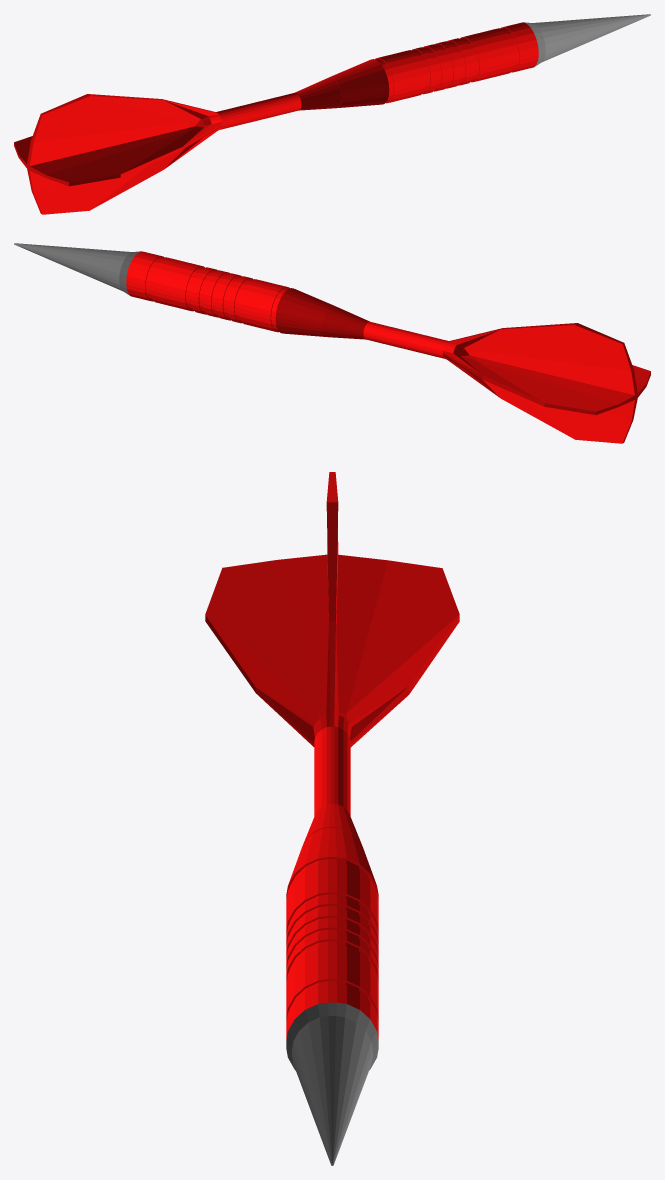
File: Dardo.obj
The picture shows the model from 3 angles, top to bottom: view 1: azimuth 30°, elevation 25°; view 2: azimuth 150°, elevation 25°; view 3: azimuth 270°, elevation 25°; orthographic projection. The views are drawn at different scales.
Visible parts, largest first — view 1: pCylinder1, Punta; view 2: pCylinder1, Punta; view 3: pCylinder1, Punta.
Boxes of the visible parts, x1,y1,x2,y2 form: pCylinder1: (14,22,538,214); Punta: (524,14,650,66); pCylinder1: (126,251,650,443); Punta: (14,243,140,295); pCylinder1: (205,472,459,1039); Punta: (286,1002,378,1165).
Size of the model in its own units: 6.45 by 1.14 by 1.14.
2 materials, 2 textured.
